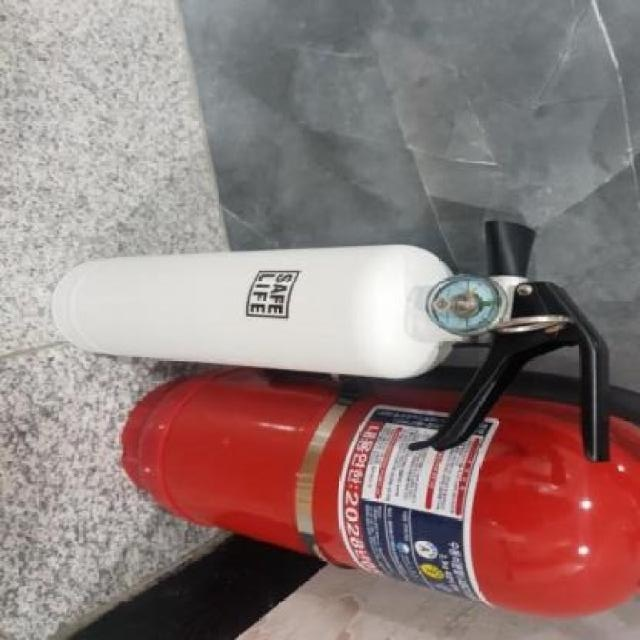fire extinguisher: (51, 219, 612, 463), (122, 374, 640, 617)
